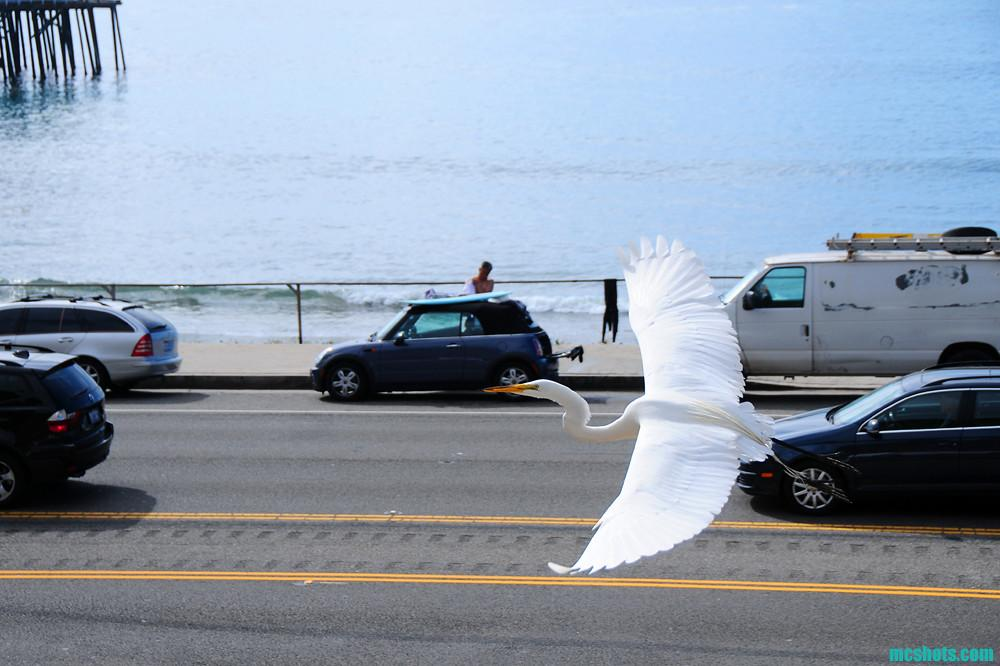car: (736, 365, 1000, 516), (310, 292, 583, 402), (1, 293, 183, 395), (1, 345, 115, 507)
